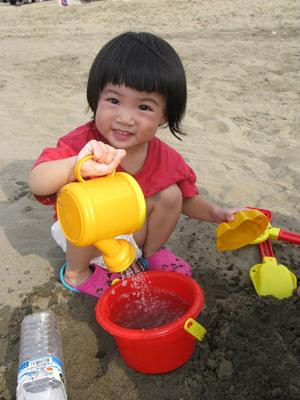person: (29, 31, 236, 299)
